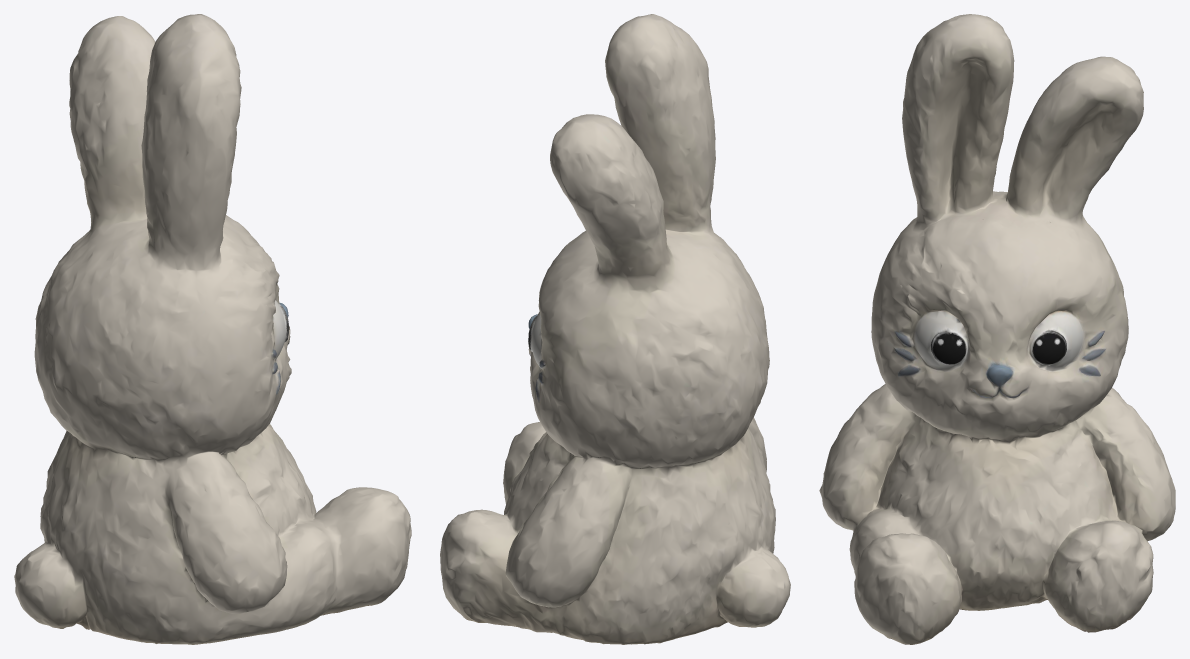
The model's file is jade_rabbit_sit_floor_v01.glb.
The picture shows the model from 3 angles, left to right: view 1: azimuth 30°, elevation 25°; view 2: azimuth 150°, elevation 25°; view 3: azimuth 270°, elevation 25°; orthographic projection. The views are drawn at different scales.
Visible parts, largest first — view 1: tripo_node_0b2675a0-0ec6-4d1b-bcbd-4eac2fbda03e; view 2: tripo_node_0b2675a0-0ec6-4d1b-bcbd-4eac2fbda03e; view 3: tripo_node_0b2675a0-0ec6-4d1b-bcbd-4eac2fbda03e.
Boxes of the visible parts, bbox=[...] form: tripo_node_0b2675a0-0ec6-4d1b-bcbd-4eac2fbda03e: bbox=[14, 14, 411, 644]; tripo_node_0b2675a0-0ec6-4d1b-bcbd-4eac2fbda03e: bbox=[440, 14, 790, 644]; tripo_node_0b2675a0-0ec6-4d1b-bcbd-4eac2fbda03e: bbox=[819, 14, 1175, 644].
Size of the model in its own units: 0.6003 by 1 by 0.5768.
1 material, 1 textured.
